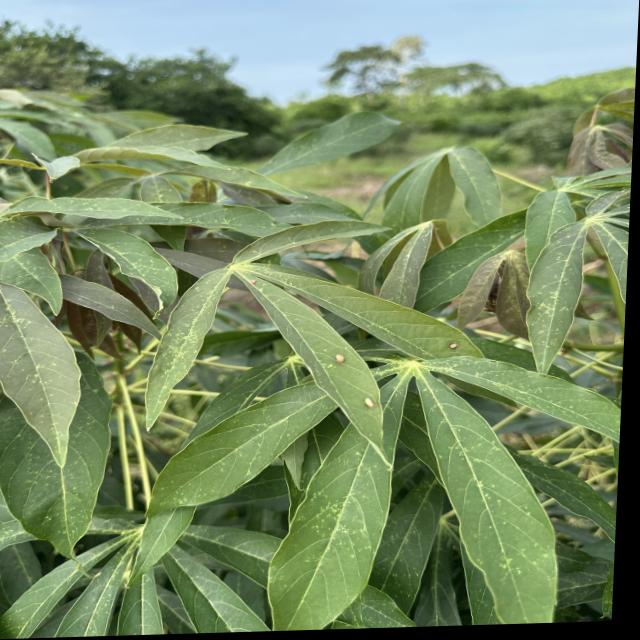Mosca: (321, 345, 344, 369), (243, 274, 266, 291), (360, 394, 379, 413), (440, 336, 460, 353)
